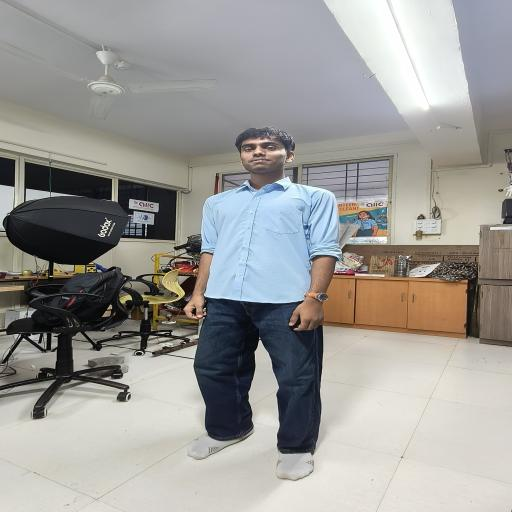survivor: (184, 126, 342, 480)
